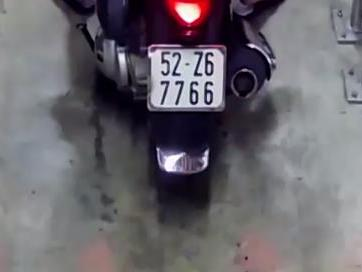num_plate: (146, 43, 228, 112)
